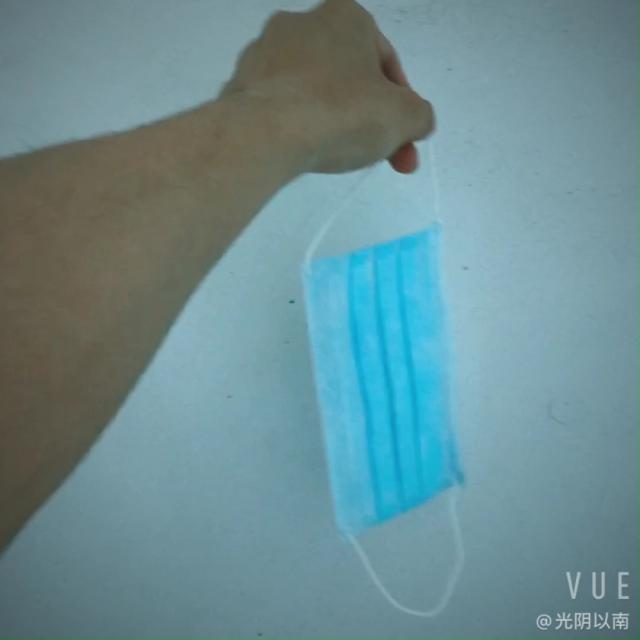non-organic waste: (291, 236, 473, 542)
